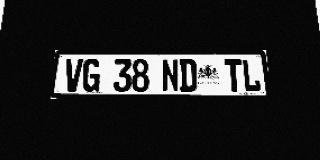3: (113, 59, 132, 92)
8: (131, 59, 149, 92)
D: (179, 59, 197, 92)
G: (82, 59, 101, 92)
L: (242, 59, 261, 92)
N: (162, 59, 179, 92)
T: (224, 59, 243, 92)
V: (63, 59, 83, 92)
